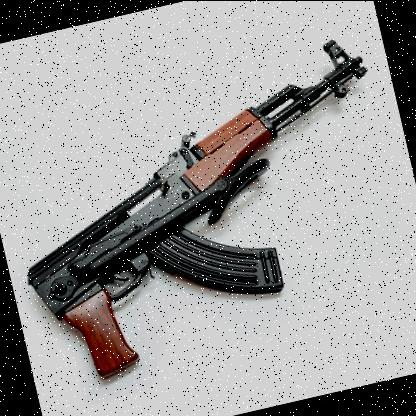rifle: (0, 27, 416, 407)
